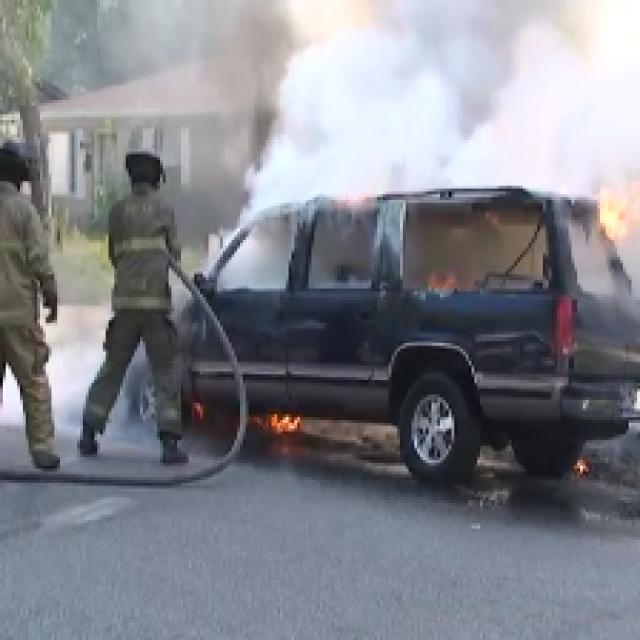smoke: (291, 10, 619, 179)
